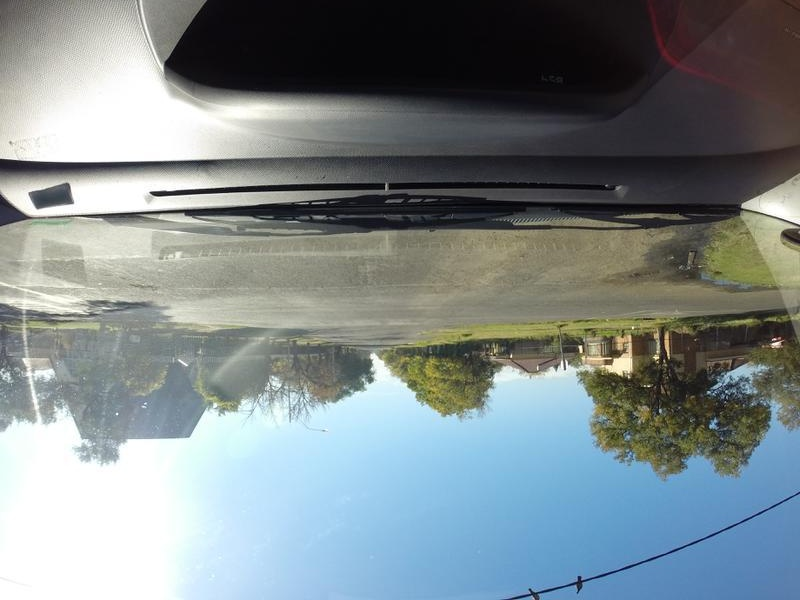pothole: (123, 280, 156, 290), (618, 269, 659, 277)
